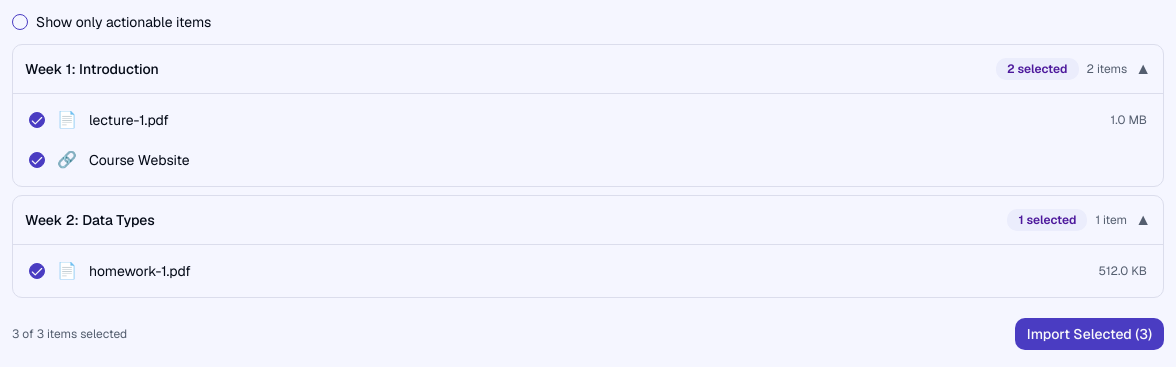
Test: MoodleFilePicker › collapses and expands sections when header is clicked
Expected: the text "lecture-1.pdf" is shown, [89,111,169,129]
Step 1. Click the button with aria-label "collapse week 1: introduction" → (92, 69), box [13,45,1163,93]
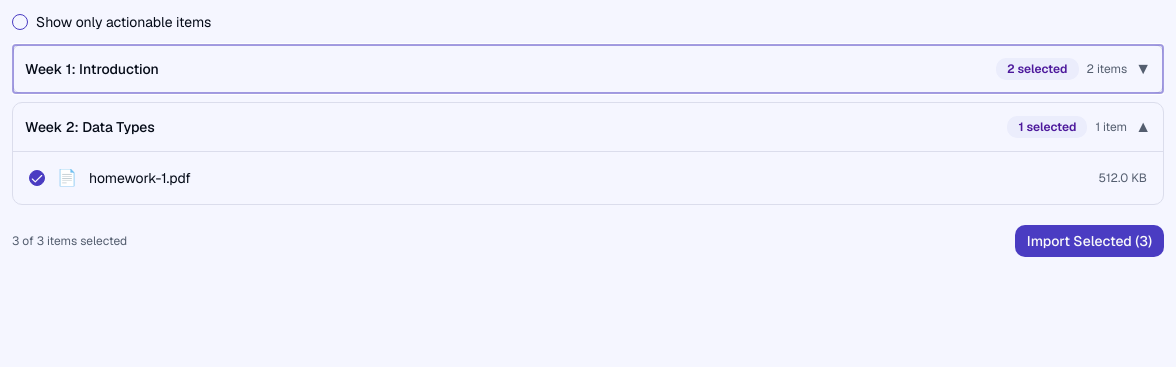
Expected: the text "lecture-1.pdf" is gone
Step 2. Click the button with aria-label "expand week 1: introduction" → (92, 69), box [13,45,1163,93]
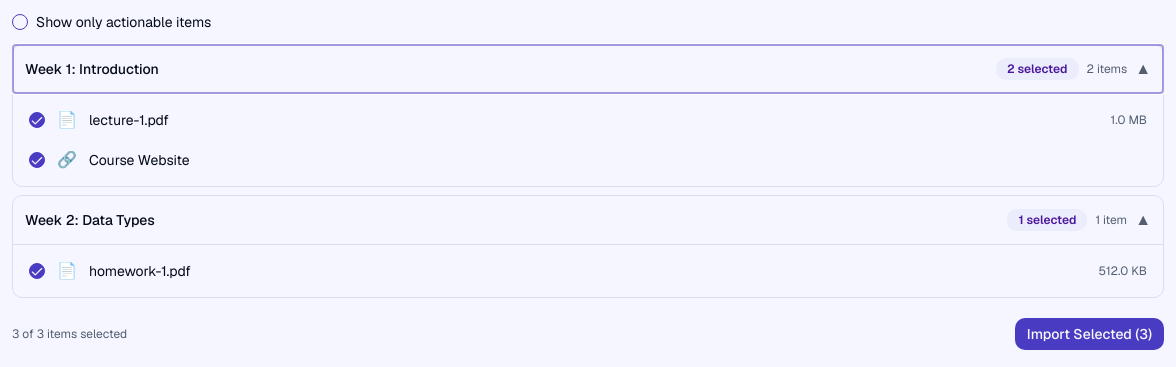
Expected: the text "lecture-1.pdf" is shown, [89,111,169,129]
